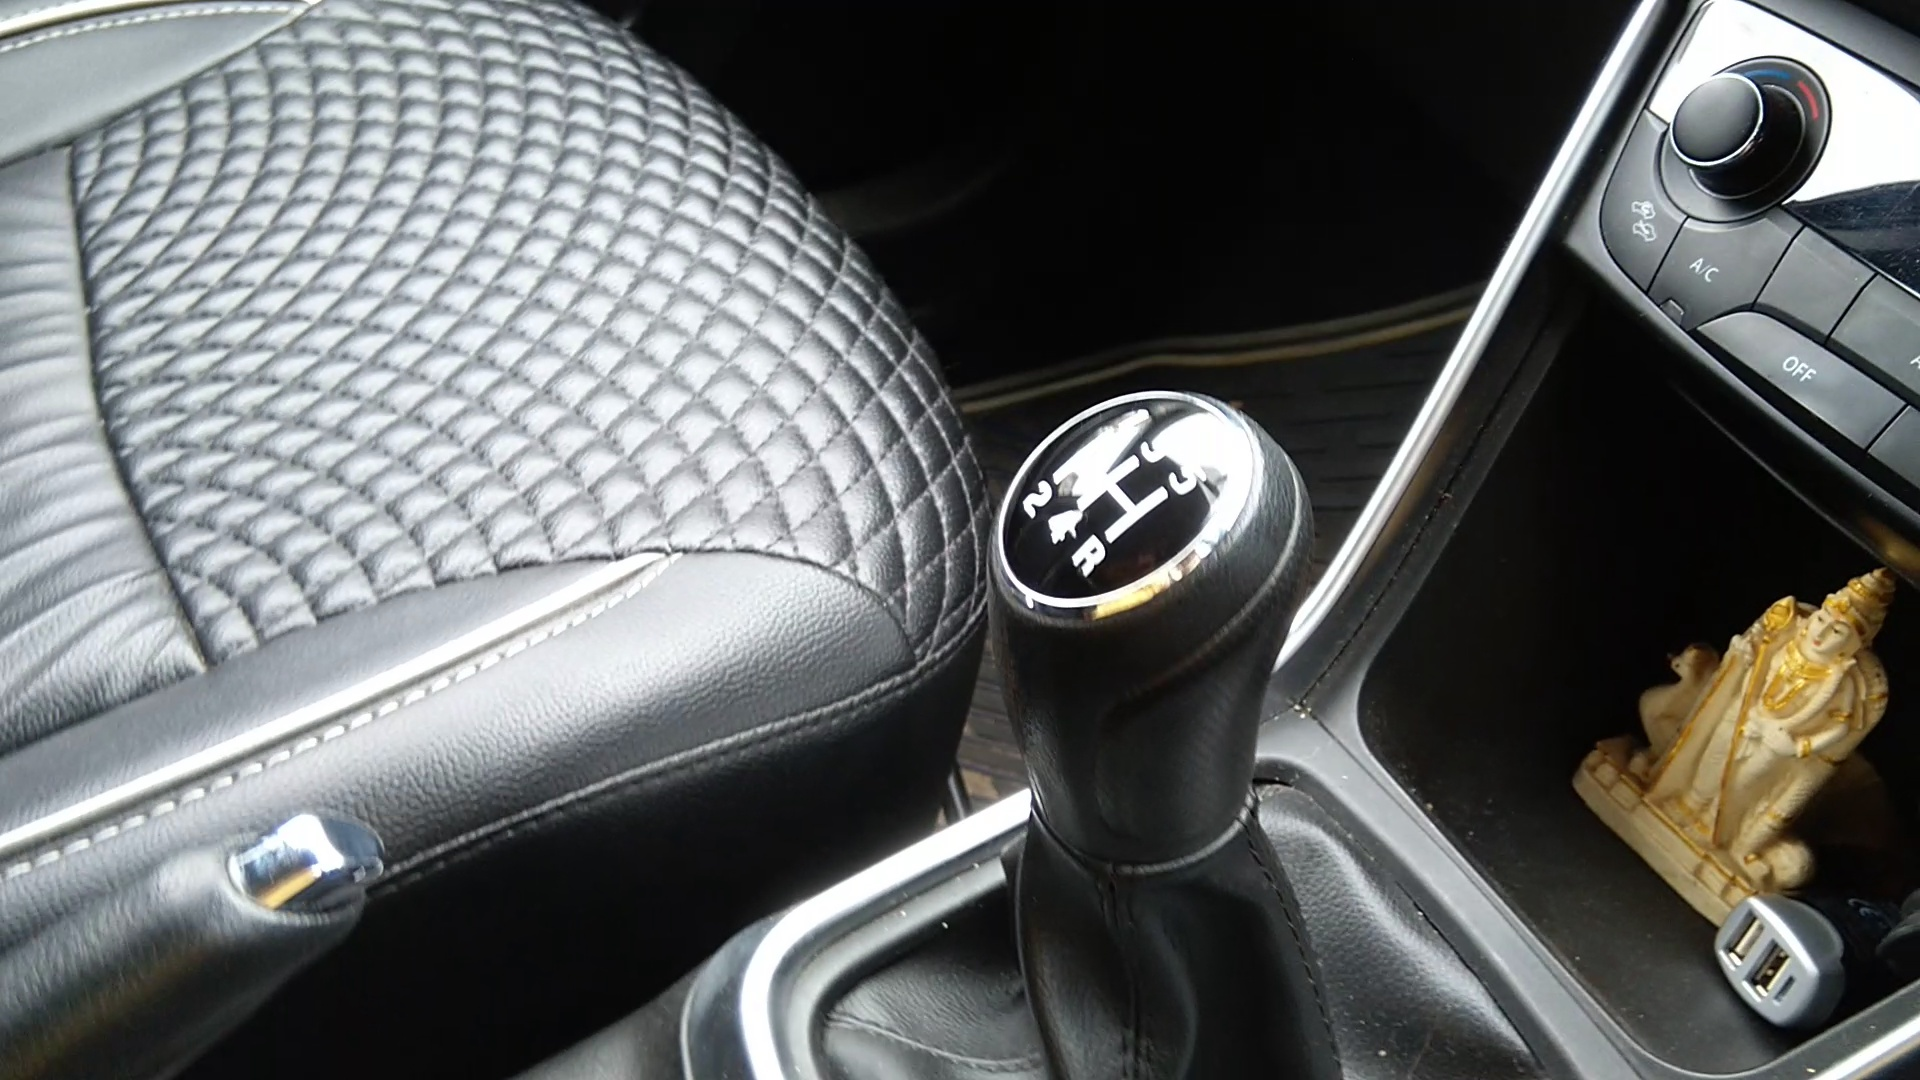manual_gear: (975, 375, 1336, 905)
